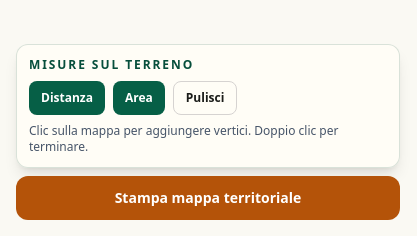
Test: territorio field tools › measures clicks, completes on double click and clears the overlay
Click the button "Distanza".
click(67, 98)  # box 29,81 -> 105,115
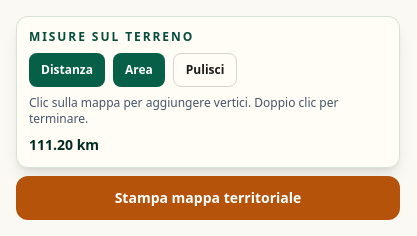
Now the text "111.20 km" is shown, box 29,135 -> 99,154
Click the button "Pulisci".
click(205, 70)  # box 173,53 -> 237,87
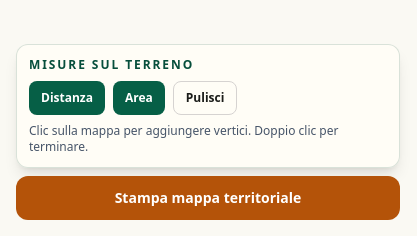
Now the text "111.20 km" is gone
